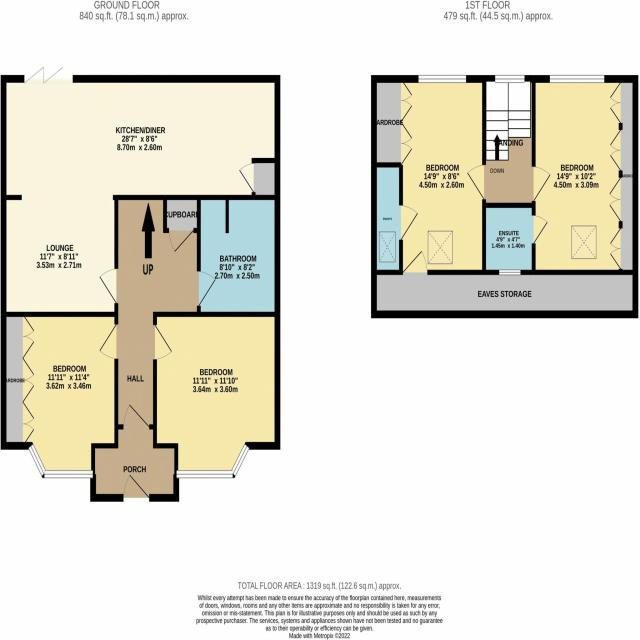DOOR: (197, 269, 217, 307), (123, 475, 150, 503), (123, 403, 149, 432), (98, 267, 118, 304), (153, 323, 173, 360), (399, 205, 419, 241), (402, 250, 428, 277), (467, 164, 487, 199), (532, 166, 551, 202), (100, 323, 118, 360), (532, 214, 548, 244)
FOLDING DOOR: (22, 60, 73, 89)
ROOM: (1, 62, 281, 318), (370, 74, 486, 275), (531, 75, 638, 275), (152, 312, 280, 479), (1, 310, 119, 479)
WINDOW: (177, 444, 249, 478), (28, 444, 93, 478), (550, 75, 604, 83), (419, 75, 467, 83), (495, 75, 525, 83), (499, 269, 521, 275)
